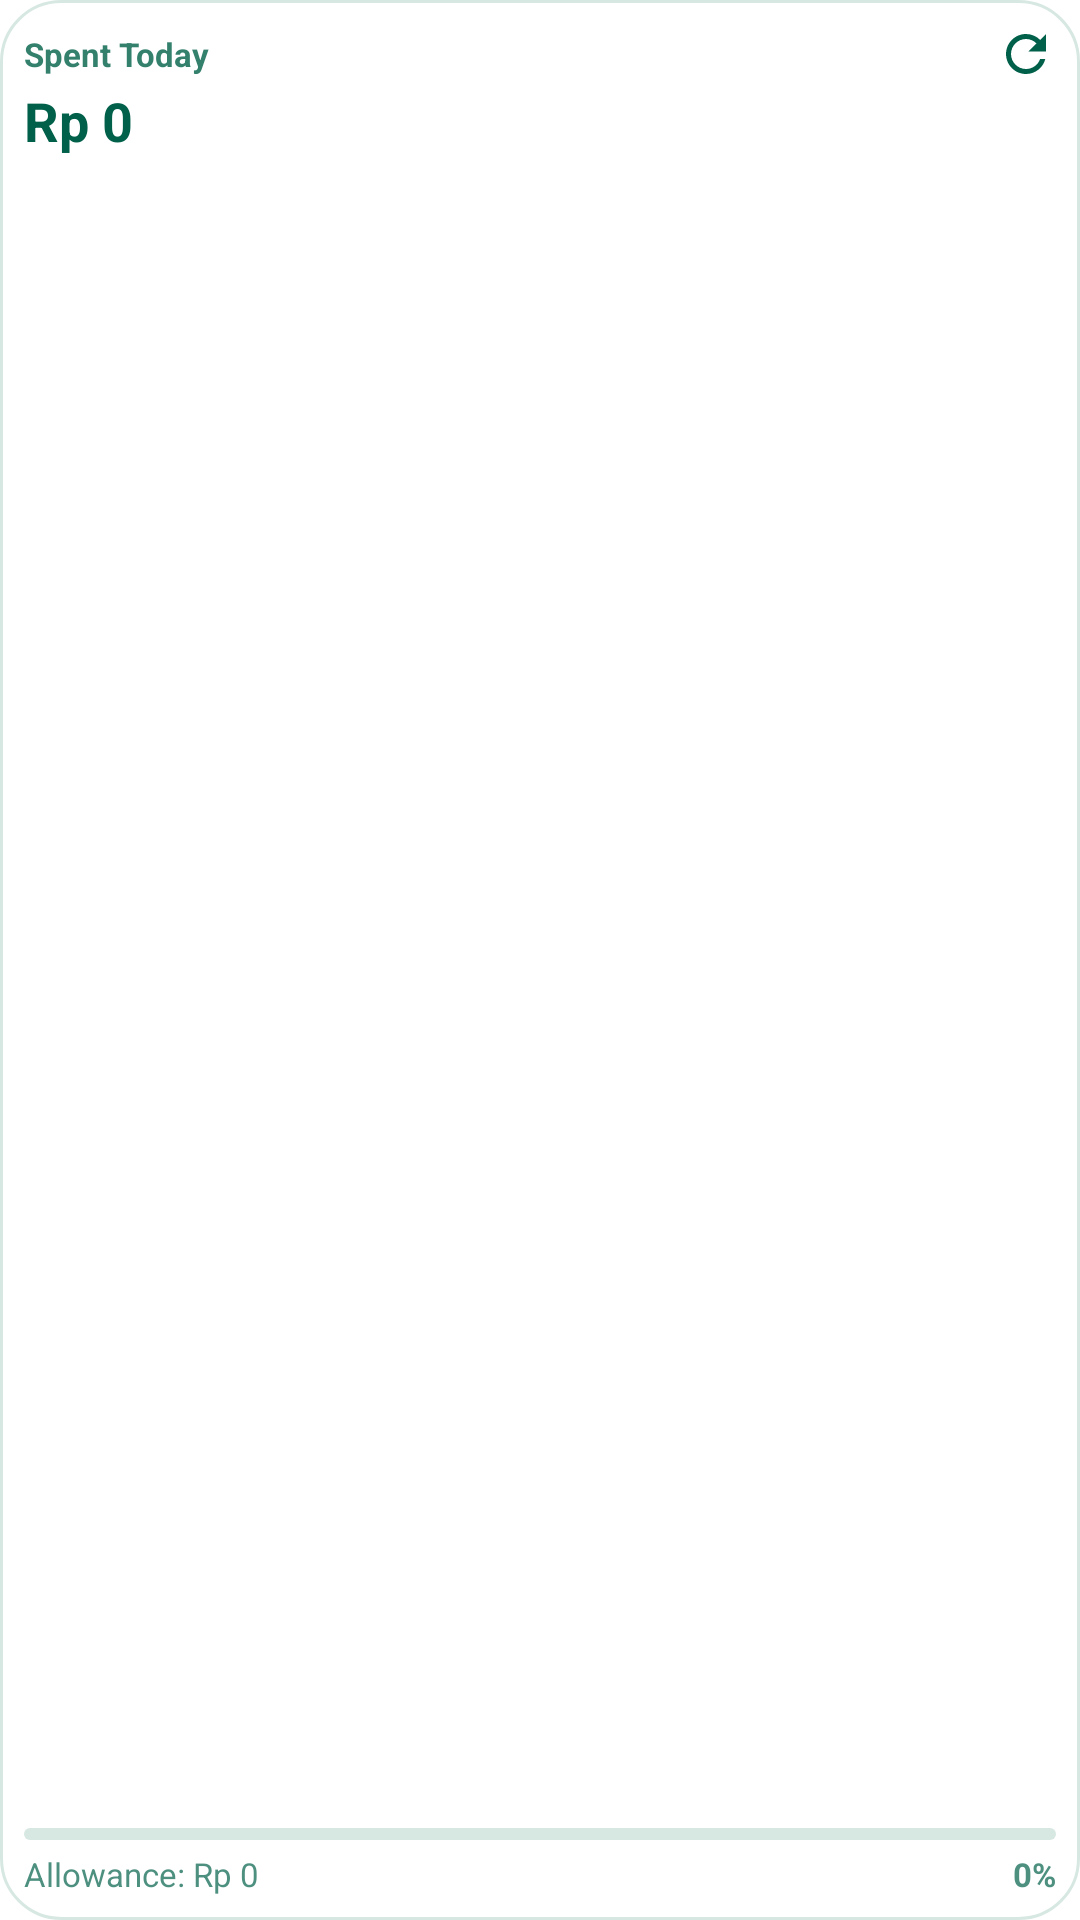

Named icons in this screenshot (1080x1920) and their bounding boxes, (x1, y1, x2, y2):
Refresh data: (1006, 34, 1046, 74)
